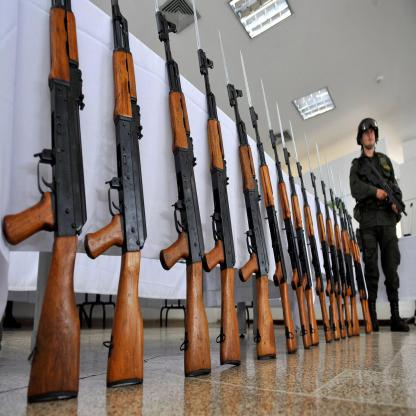rifle: (2, 0, 89, 401), (84, 0, 149, 392), (150, 0, 214, 377), (193, 47, 243, 370), (226, 82, 278, 362), (248, 104, 298, 357), (268, 129, 314, 350), (268, 128, 313, 350), (282, 148, 326, 347), (280, 147, 320, 347), (294, 160, 334, 343), (316, 181, 342, 342), (345, 216, 374, 336), (359, 160, 409, 219), (340, 210, 359, 340), (336, 206, 350, 337)
